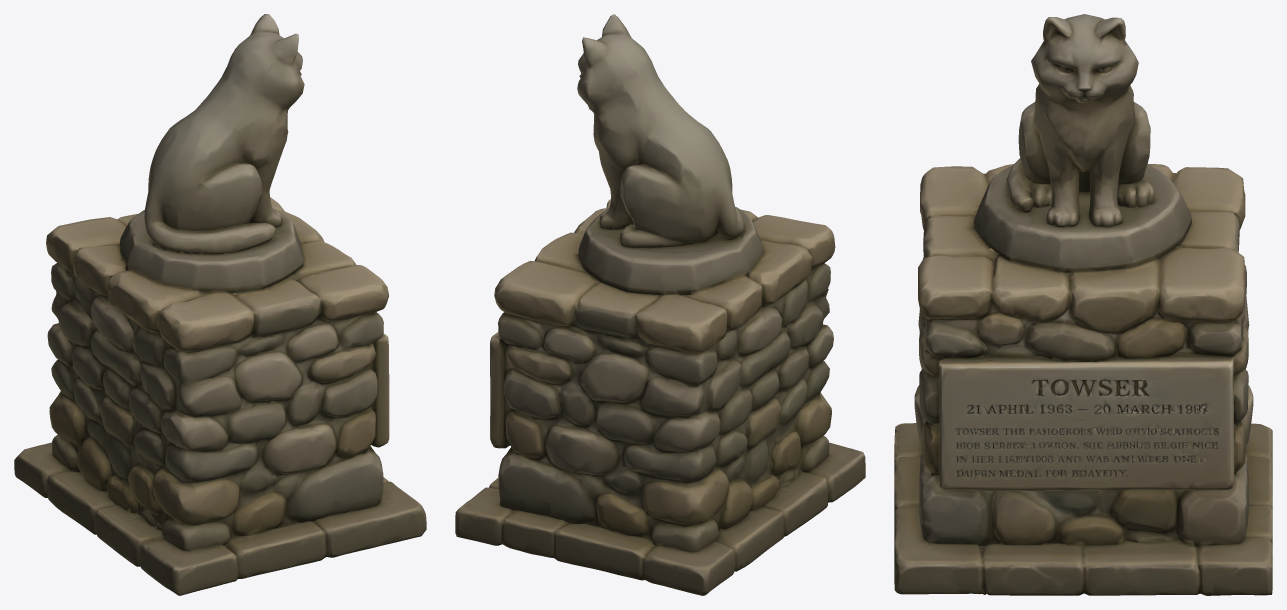
Rendered from DOM_andreyvbvbvb_5.glb.
3 views of the same model, side by side, from view 1: azimuth 30°, elevation 25°; view 2: azimuth 150°, elevation 25°; view 3: azimuth 270°, elevation 25° (orthographic). The views are drawn at different scales.
Parts seen in each view (by area): view 1: tripo_node_9576b0be-8aaa-4268-92a8-c0895ffdde62; view 2: tripo_node_9576b0be-8aaa-4268-92a8-c0895ffdde62; view 3: tripo_node_9576b0be-8aaa-4268-92a8-c0895ffdde62.
Part boxes in pixels (x1,y1,x2,y2): tripo_node_9576b0be-8aaa-4268-92a8-c0895ffdde62: [14, 14, 426, 595]; tripo_node_9576b0be-8aaa-4268-92a8-c0895ffdde62: [455, 14, 865, 595]; tripo_node_9576b0be-8aaa-4268-92a8-c0895ffdde62: [894, 14, 1272, 595].
Bounding box in the file's own units: 0.5526 × 0.9783 × 0.6176.
1 material, 1 textured.
